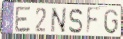2: (34, 7, 47, 33)
E: (14, 5, 32, 33)
F: (85, 6, 102, 37)
G: (103, 8, 119, 35)
N: (49, 7, 67, 34)
S: (68, 8, 84, 35)
